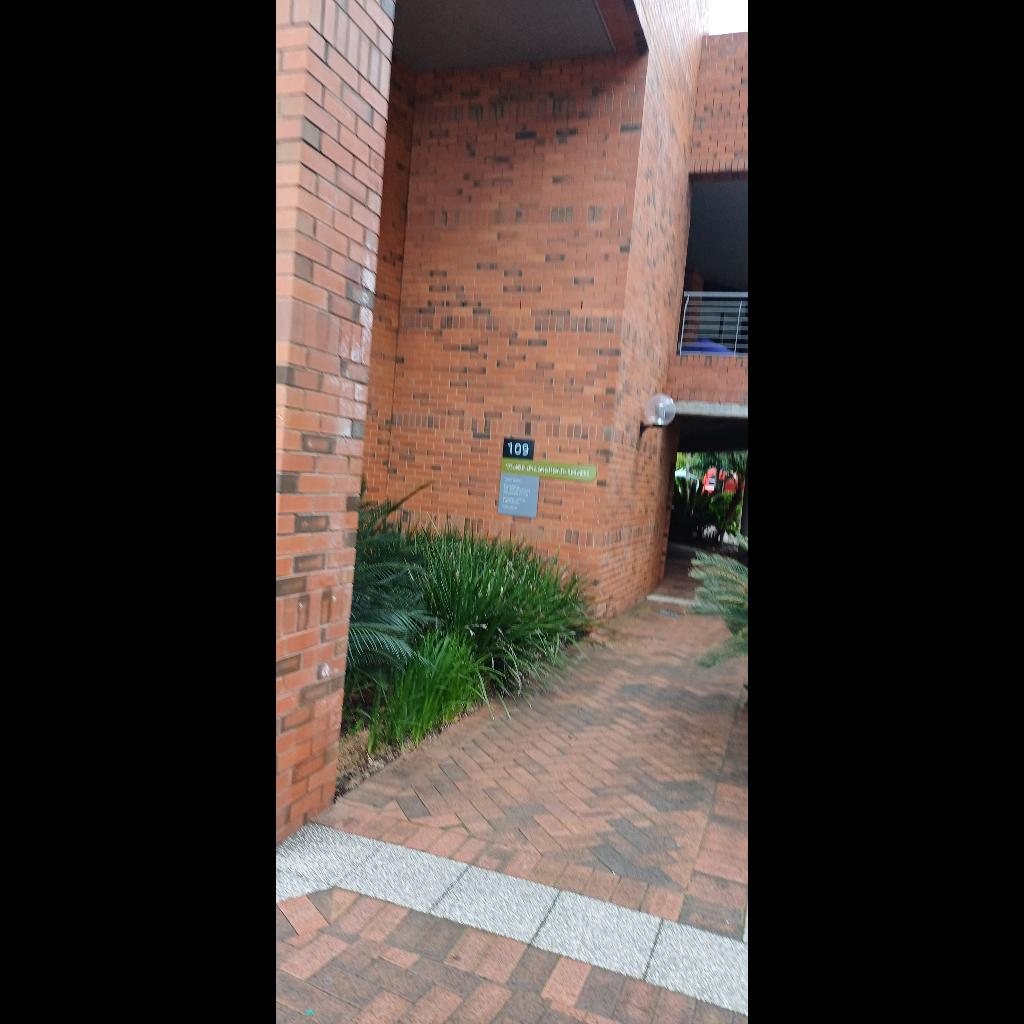BuildingCodes: (504, 438, 530, 460)
